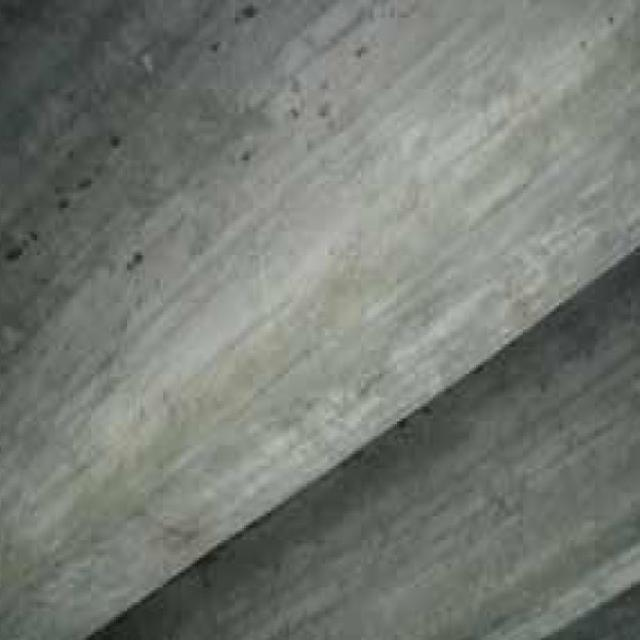crack: (233, 224, 291, 314)
